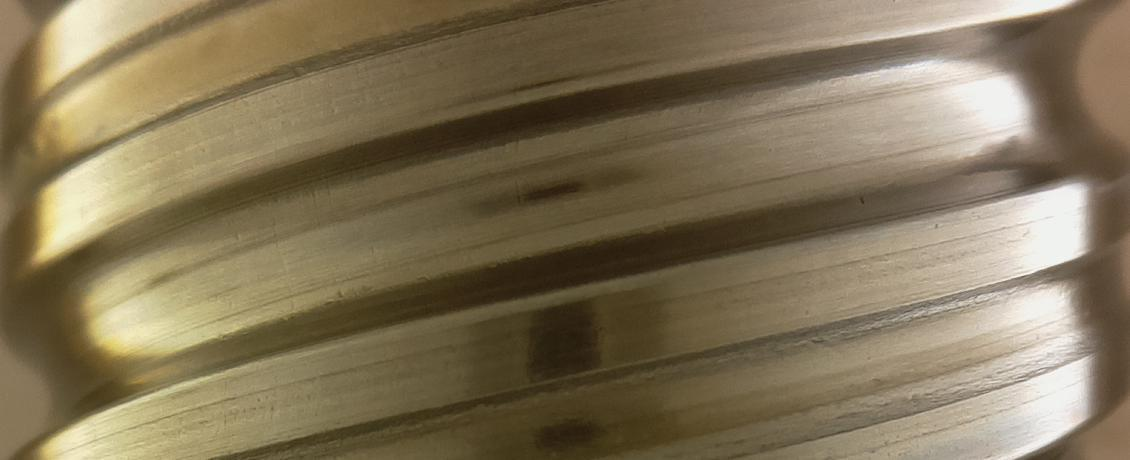pitting: (860, 195, 865, 204)
